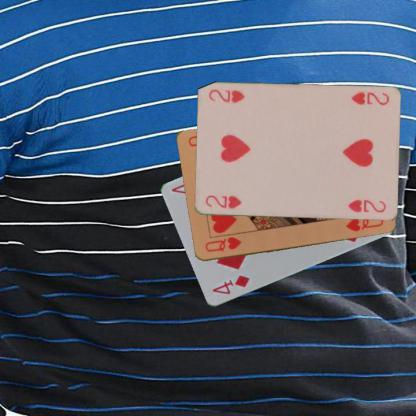2h: (202, 193, 243, 210), (348, 90, 390, 106)
4d: (209, 273, 251, 296)
Qh: (202, 234, 243, 254)
